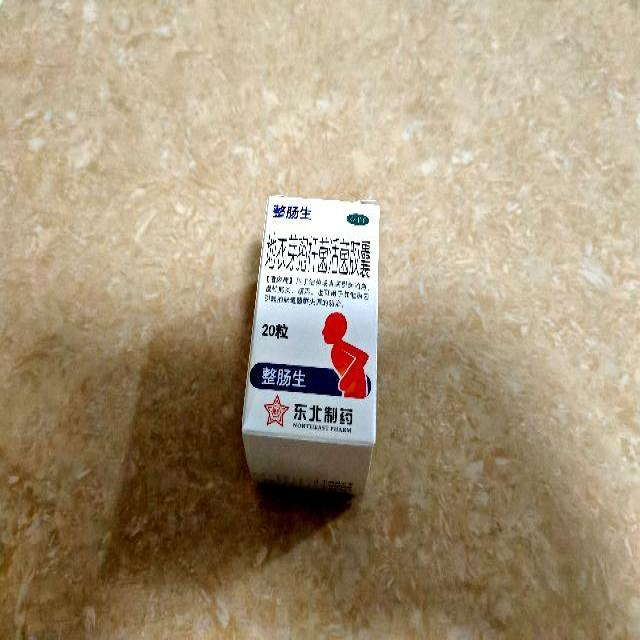box: (242, 195, 381, 493)
